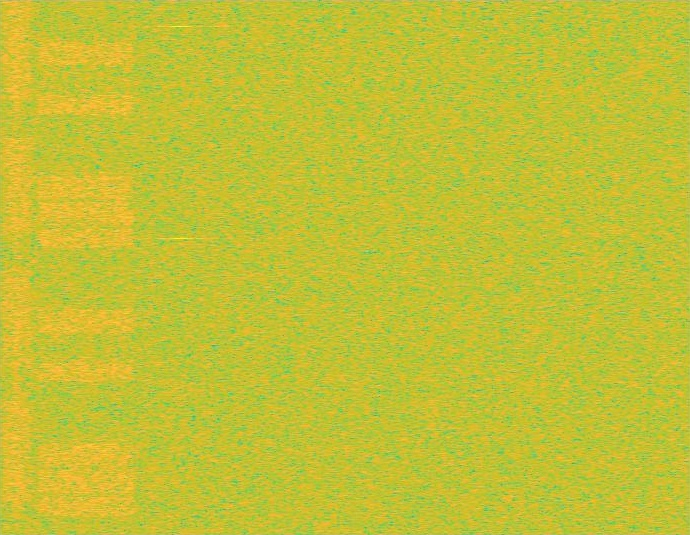5G: (0, 0, 35, 534)
DSSS: (13, 0, 21, 534)
LTE: (35, 0, 138, 534)
Radar: (174, 0, 188, 534)
